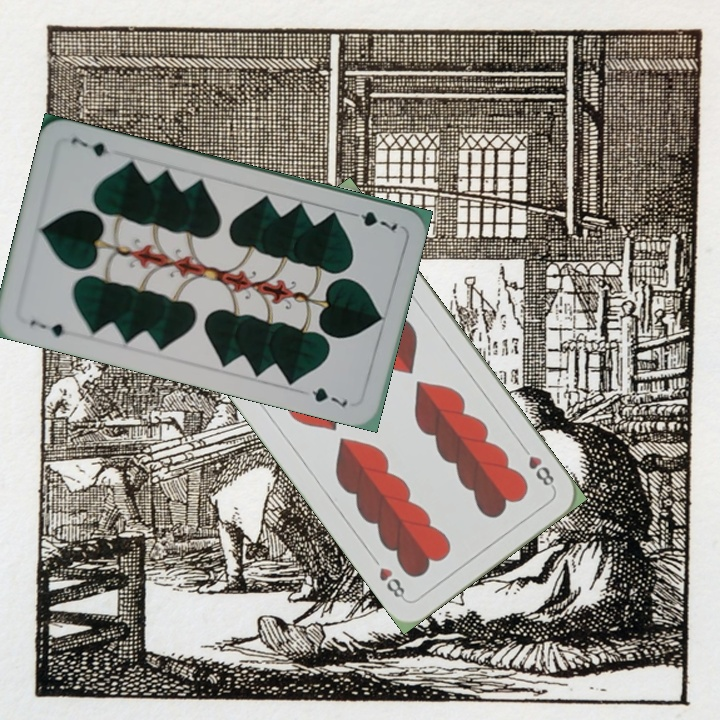G7: (344, 207, 401, 234), (26, 315, 68, 339)
H8: (517, 441, 558, 492)
